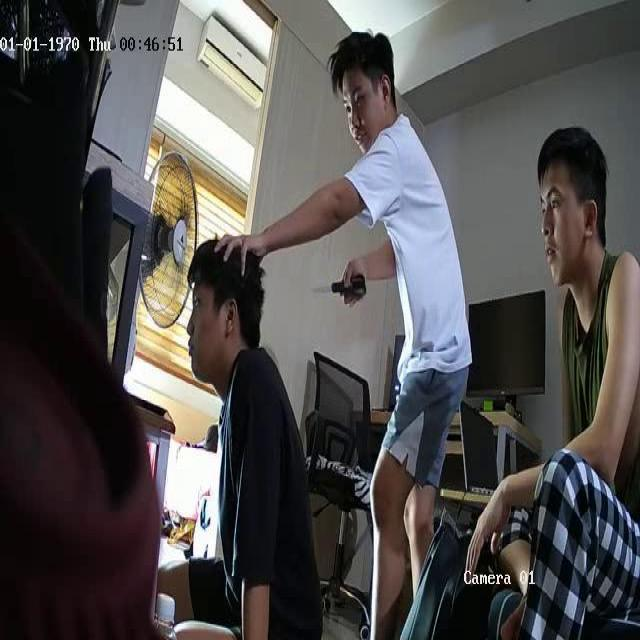scissor: (313, 272, 365, 300)
